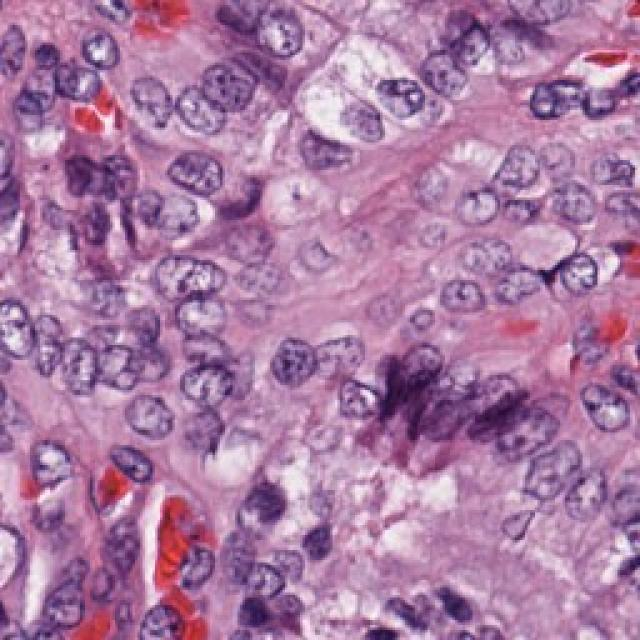abnormal: (350, 57, 448, 142), (118, 170, 217, 252), (156, 140, 261, 217), (307, 75, 398, 162), (8, 418, 108, 497), (479, 398, 569, 485), (150, 241, 245, 316), (157, 520, 235, 607), (105, 55, 173, 148), (487, 127, 565, 208), (231, 0, 321, 68), (165, 72, 242, 150), (535, 245, 623, 313), (113, 382, 188, 458), (255, 331, 335, 401), (42, 50, 122, 118), (515, 434, 583, 514), (190, 43, 262, 118), (172, 349, 248, 419), (570, 377, 640, 453), (448, 166, 512, 246), (443, 270, 513, 335), (415, 42, 477, 108), (0, 280, 45, 370)
